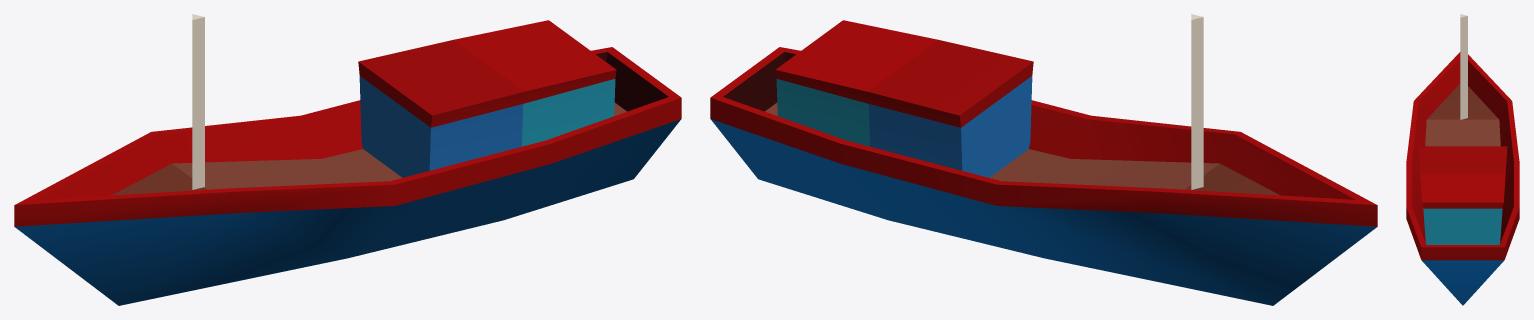
The model's file is SM_Boat_03.fbx.
The picture shows the model from 3 angles, left to right: view 1: azimuth 30°, elevation 25°; view 2: azimuth 150°, elevation 25°; view 3: azimuth 270°, elevation 25°; orthographic projection. The views are drawn at different scales.
Parts seen in each view (by area): view 1: SM_Boat_03_LOD0; view 2: SM_Boat_03_LOD0; view 3: SM_Boat_03_LOD0.
Part boxes in pixels (box(x1,y1,x2,y2)): SM_Boat_03_LOD0: box(14, 14, 681, 305); SM_Boat_03_LOD0: box(710, 14, 1377, 305); SM_Boat_03_LOD0: box(1406, 14, 1519, 305).
Size of what is drawn, in the model's own units: 4.36 by 1.83 by 1.12.
